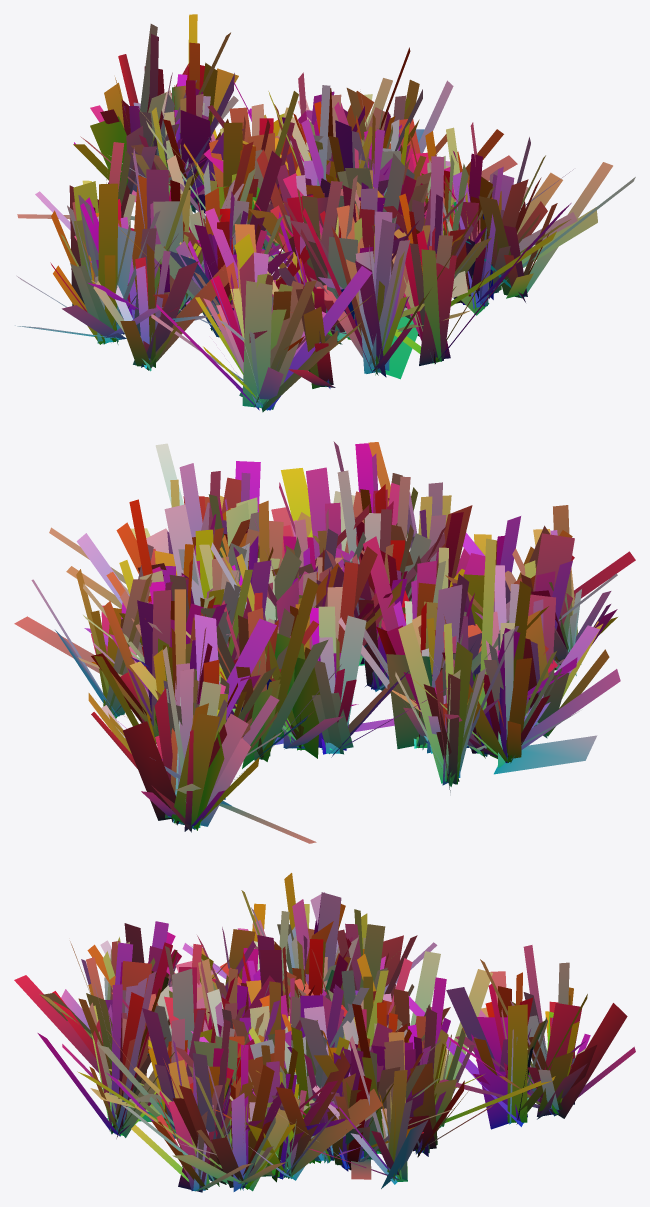
File: Grass_Clumps_qmBr2_Low_qmBr2_VarA_LOD1.fbx
The picture shows the model from 3 angles, top to bottom: view 1: azimuth 30°, elevation 25°; view 2: azimuth 150°, elevation 25°; view 3: azimuth 270°, elevation 25°; orthographic projection. The views are drawn at different scales.
Visible parts, largest first — view 1: _4ac2_VarA_LOD2; view 2: _4ac2_VarA_LOD2; view 3: _4ac2_VarA_LOD2.
Part boxes in pixels (x1,y1,x2,y2): _4ac2_VarA_LOD2: (15, 14, 635, 412); _4ac2_VarA_LOD2: (14, 441, 635, 843); _4ac2_VarA_LOD2: (14, 873, 635, 1192).
Bounding box in the file's own units: 78.19 × 26.57 × 82.38.
